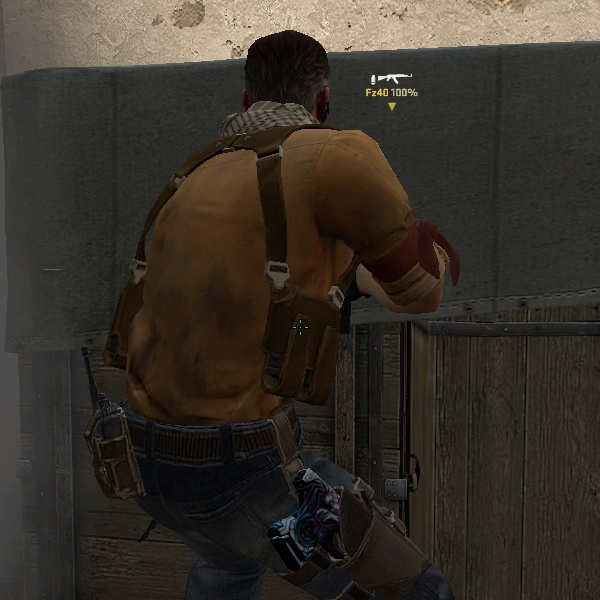t_body: (42, 19, 492, 600)
t_head: (221, 24, 359, 149)
